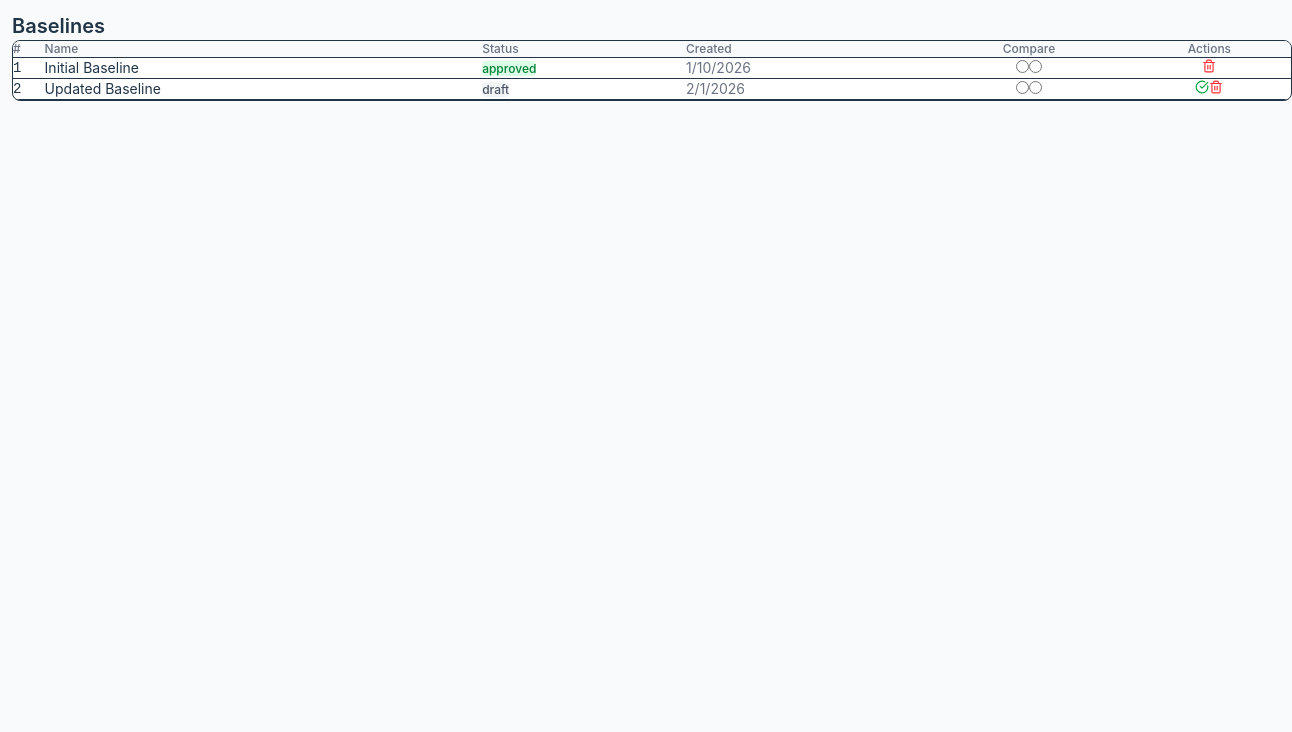
it: BaselineList › shows error toast when approval fails
The image size is (1292, 732).
Click the button titled "Approve".
click(1202, 87)  # box [1195, 80, 1209, 94]
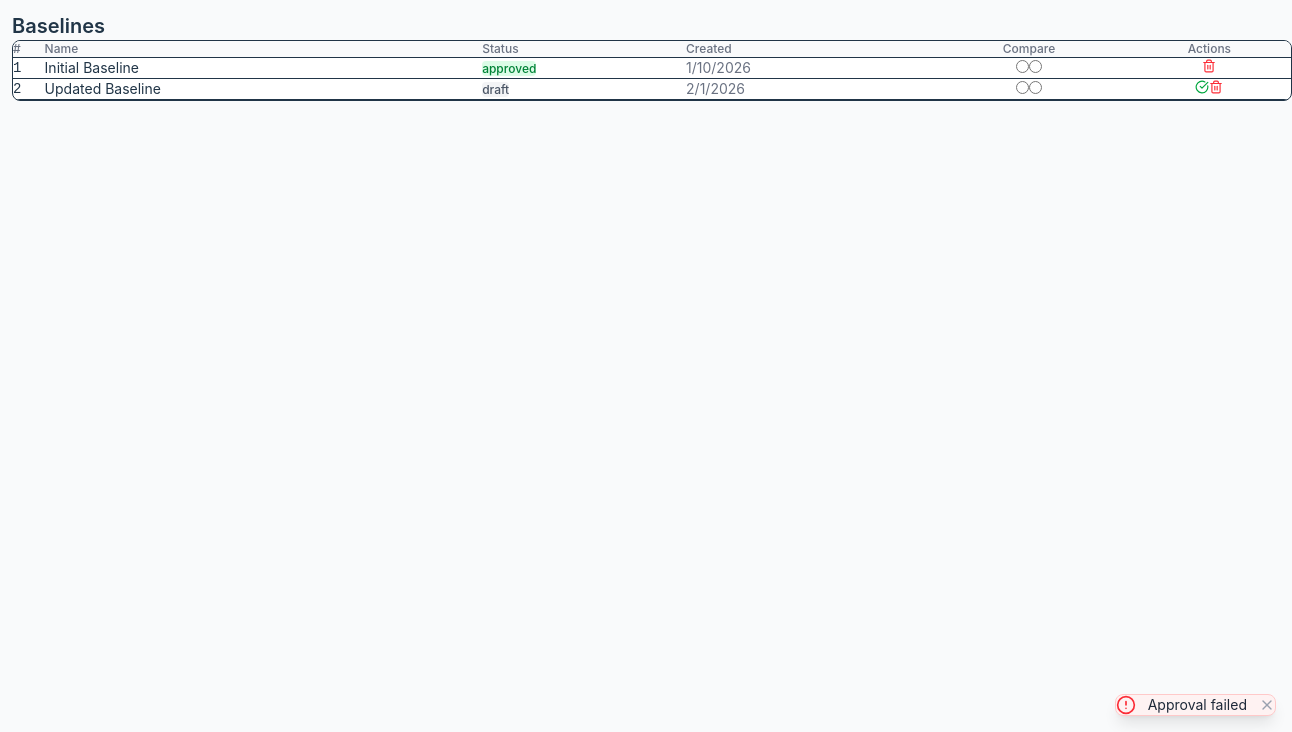
Expected: the text "Approval failed" is shown, [1148, 695, 1247, 715]
